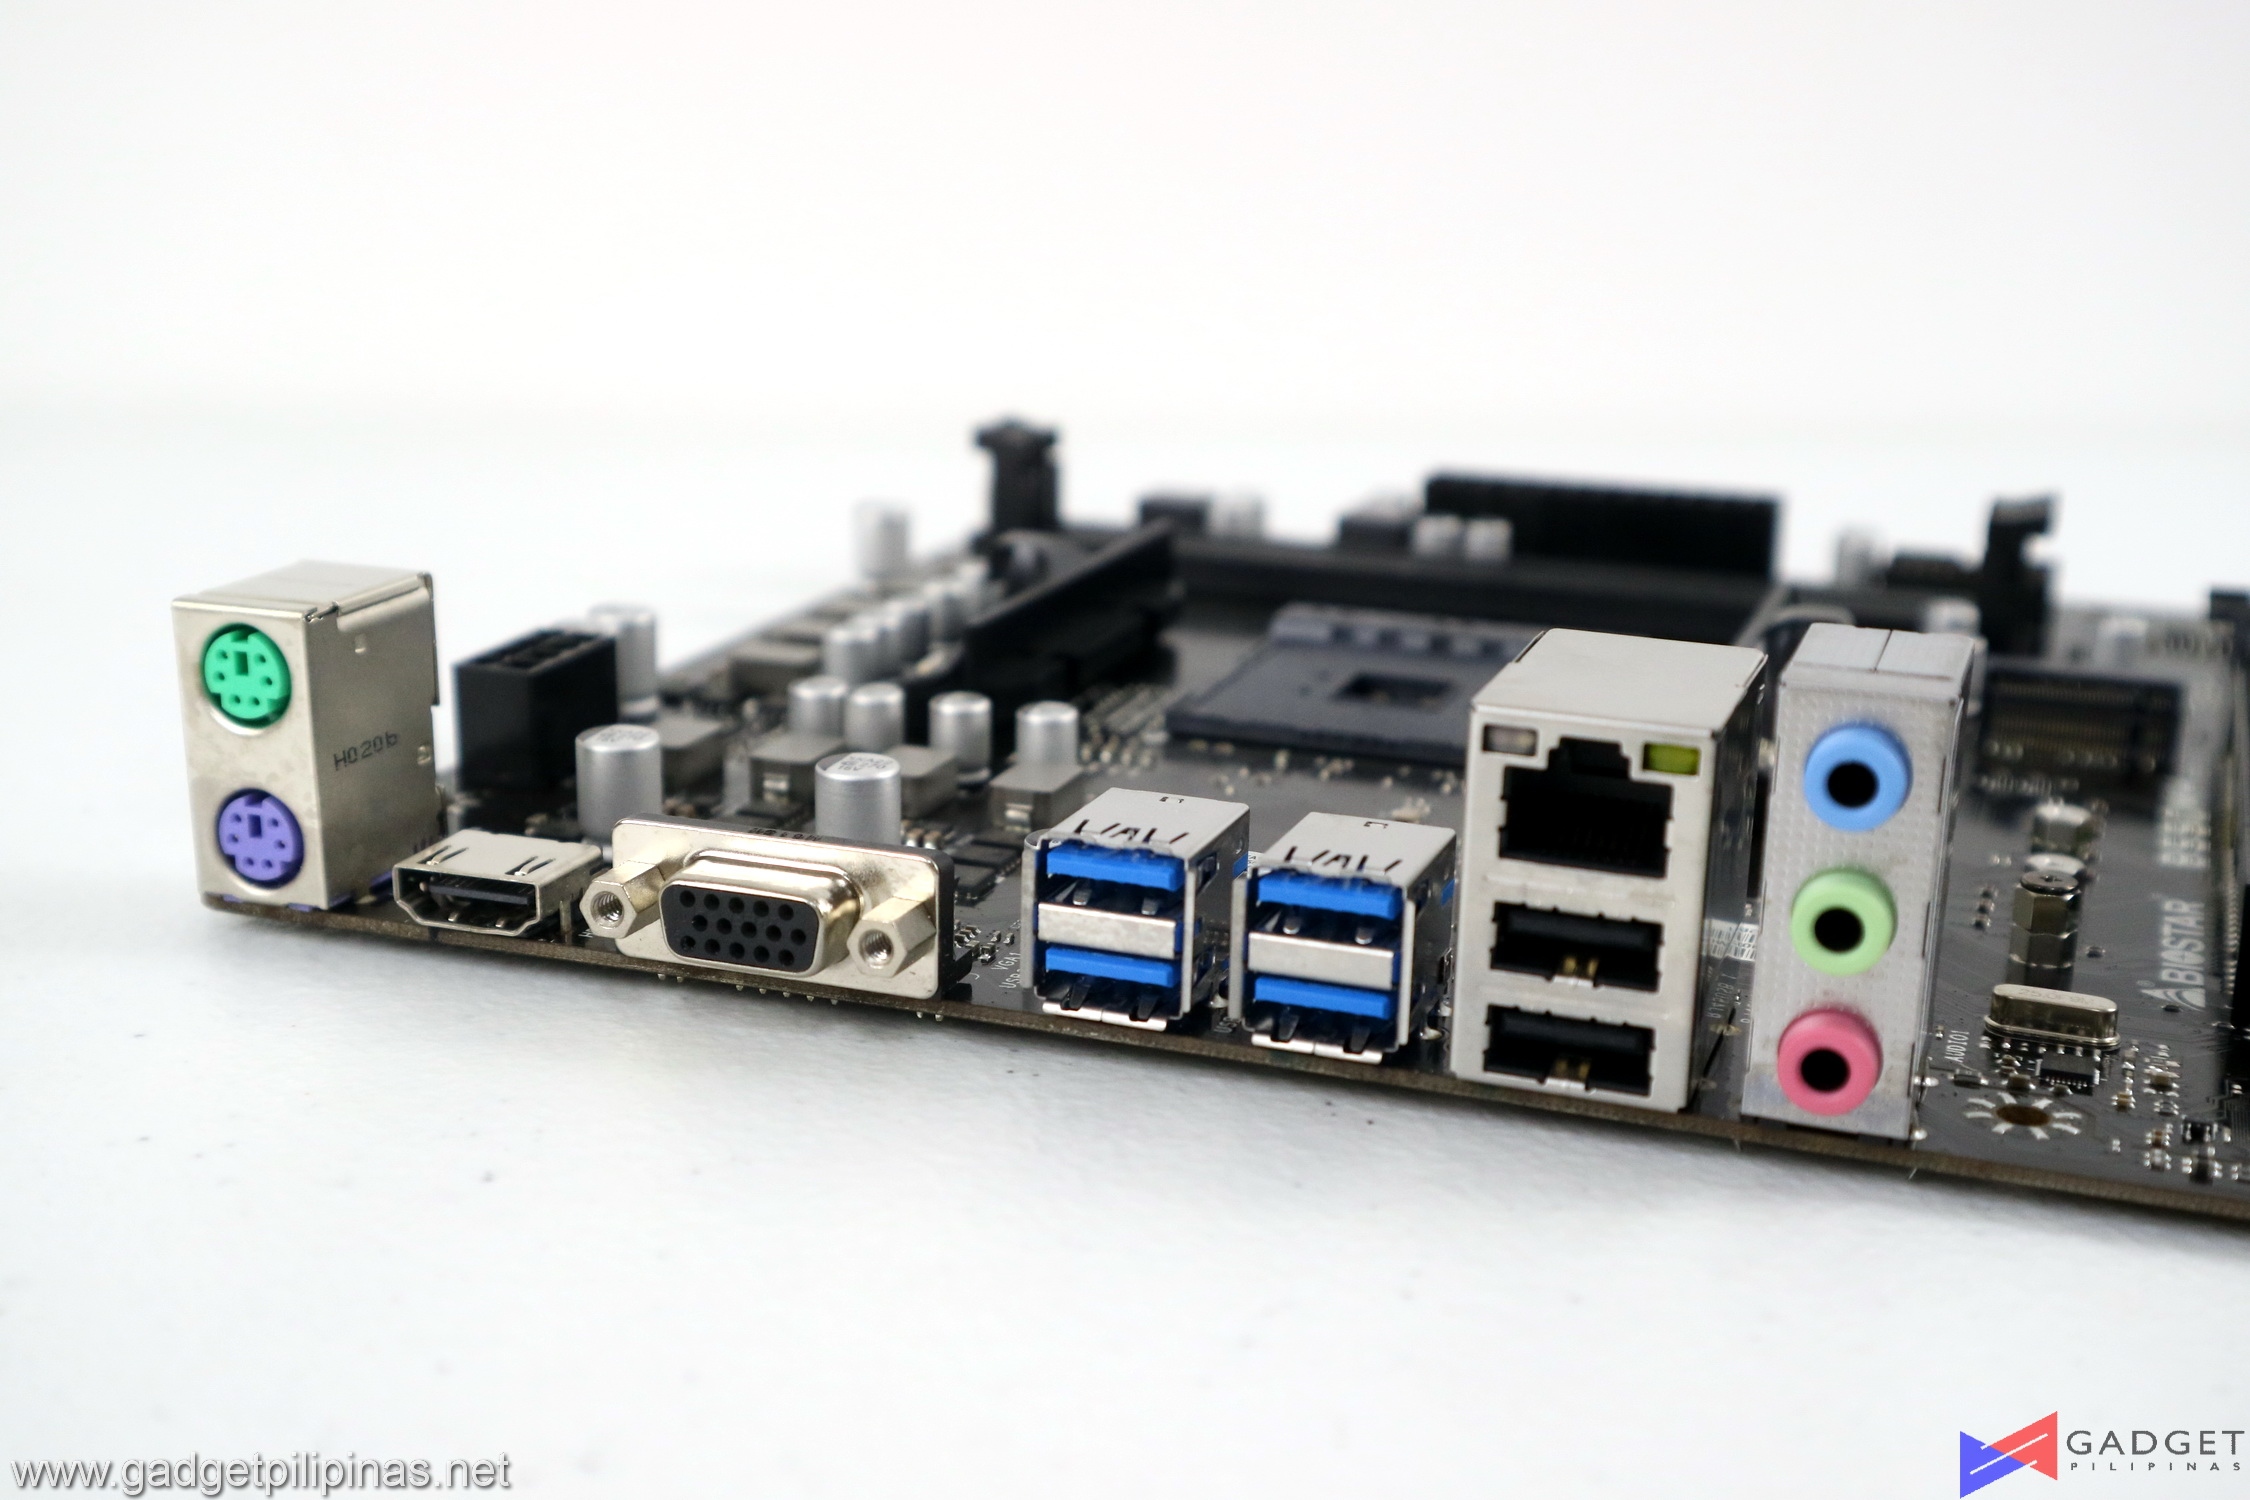Audio: (1765, 993, 1878, 1120), (1805, 710, 1915, 834)
Ethernet: (1475, 711, 1689, 897)
HDMI: (387, 860, 569, 944)
USB: (1465, 989, 1674, 1102)
VGA: (650, 872, 852, 988)
